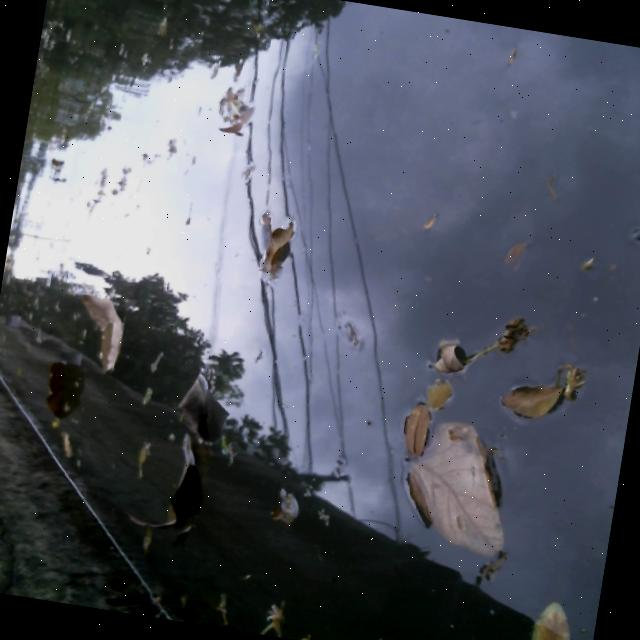Big-leaf: (385, 411, 526, 569), (145, 430, 211, 536), (63, 285, 131, 377), (170, 364, 225, 446), (37, 357, 80, 421)
Small-leaf: (495, 377, 563, 424), (519, 591, 584, 640), (210, 84, 258, 147), (390, 396, 438, 458), (255, 219, 298, 282), (423, 332, 476, 381), (265, 481, 307, 532)
